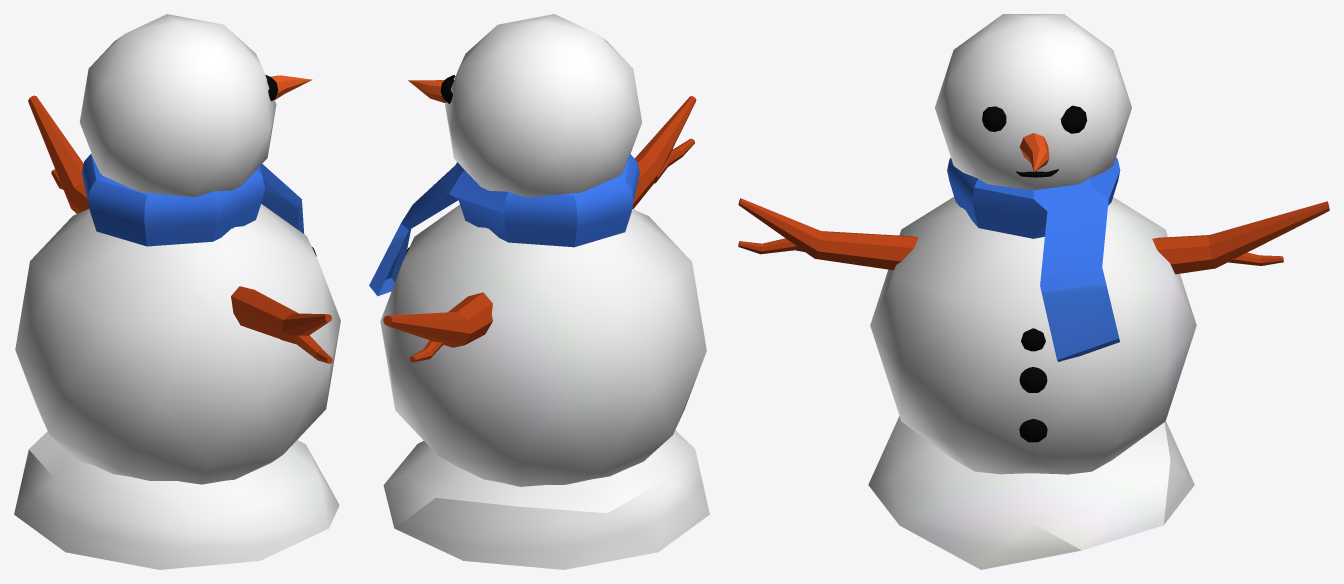
Rendered from BonecoNeve.glb.
3 views of the same model, side by side, from view 1: azimuth 30°, elevation 25°; view 2: azimuth 150°, elevation 25°; view 3: azimuth 270°, elevation 25° (orthographic). The views are drawn at different scales.
Parts seen in each view (by area): view 1: BonecoNeve; view 2: BonecoNeve; view 3: BonecoNeve.
Part boxes in pixels (x1,y1,x2,y2): BonecoNeve: (14, 14, 340, 569); BonecoNeve: (369, 14, 709, 569); BonecoNeve: (738, 14, 1329, 569).
Size of the model in its own units: 1.96 by 3.29 by 3.62.
1 material, 1 textured.
